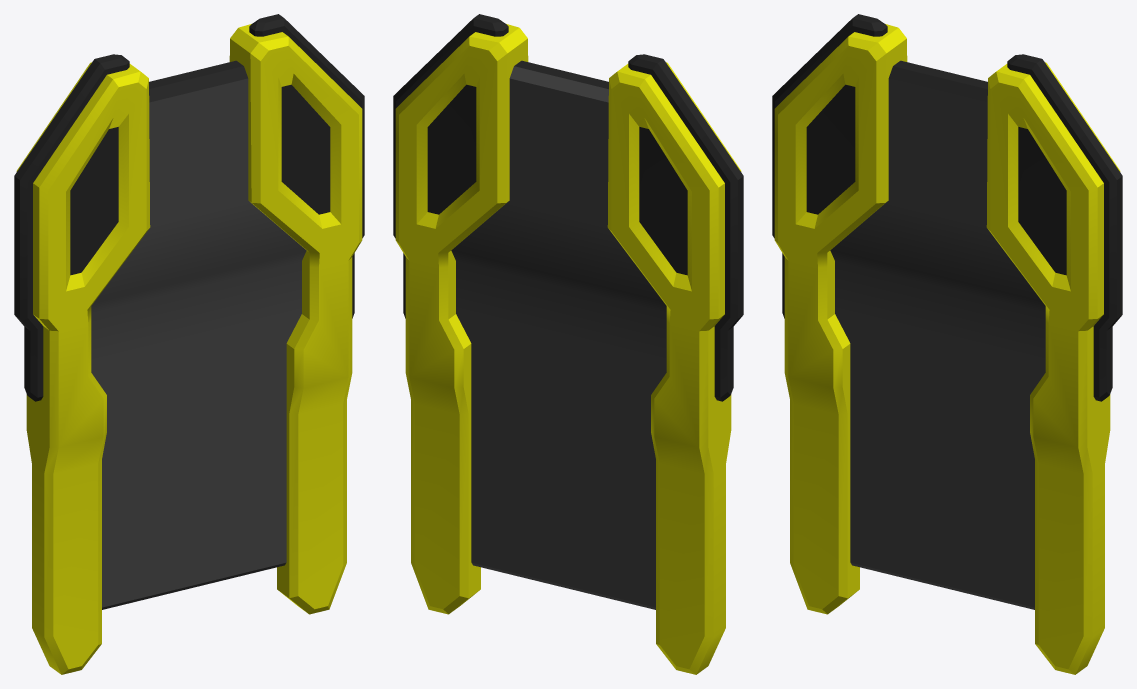
The model's file is Keycard_Yellow.fbx.
The picture shows the model from 3 angles, left to right: view 1: azimuth 30°, elevation 25°; view 2: azimuth 150°, elevation 25°; view 3: azimuth 330°, elevation 25°; orthographic projection.
Parts seen in each view (by area): view 1: pCube1; view 2: pCube1; view 3: pCube1.
Part boxes in pixels (x1,y1,x2,y2): pCube1: (14,14,364,674); pCube1: (393,14,743,674); pCube1: (772,14,1122,674).
Bounding box in the file's own units: 53.92 × 89.55 × 7.66.
